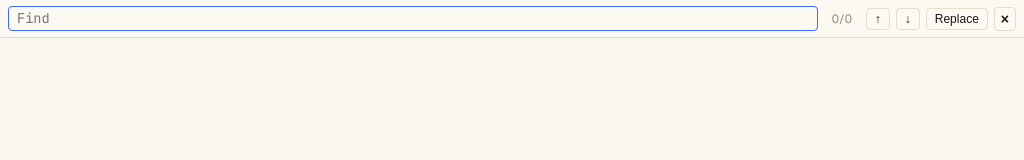
Test: SearchBar › disables Replace and Replace All when no matches
Click the button with test id "toggle-replace": (957, 18) [926,8,988,30]
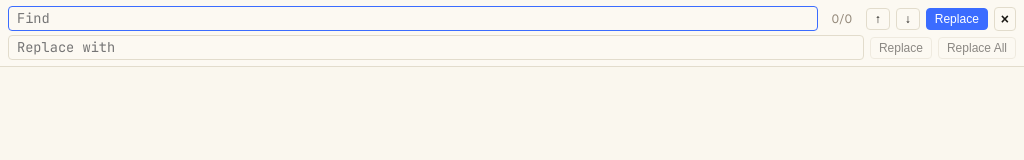
Now the button with test id "replace-button" is disabled, box [870,36,932,58]
Now the button with test id "replace-all-button" is disabled, box [938,36,1016,58]
